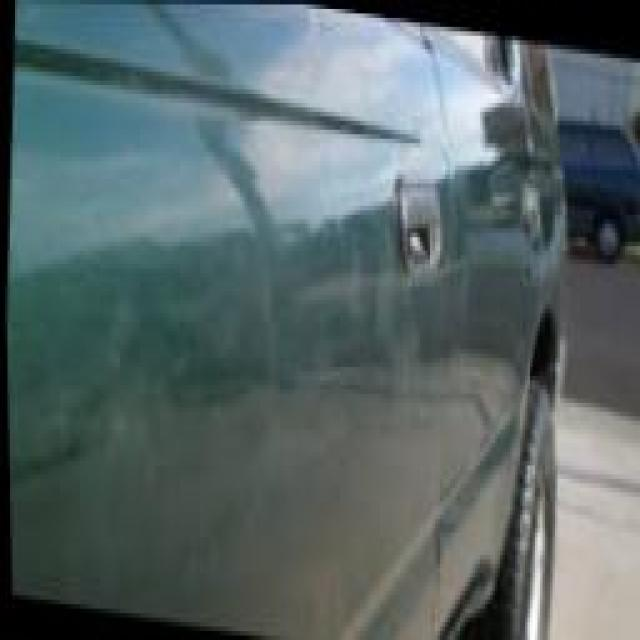Door: (465, 112, 563, 301)
